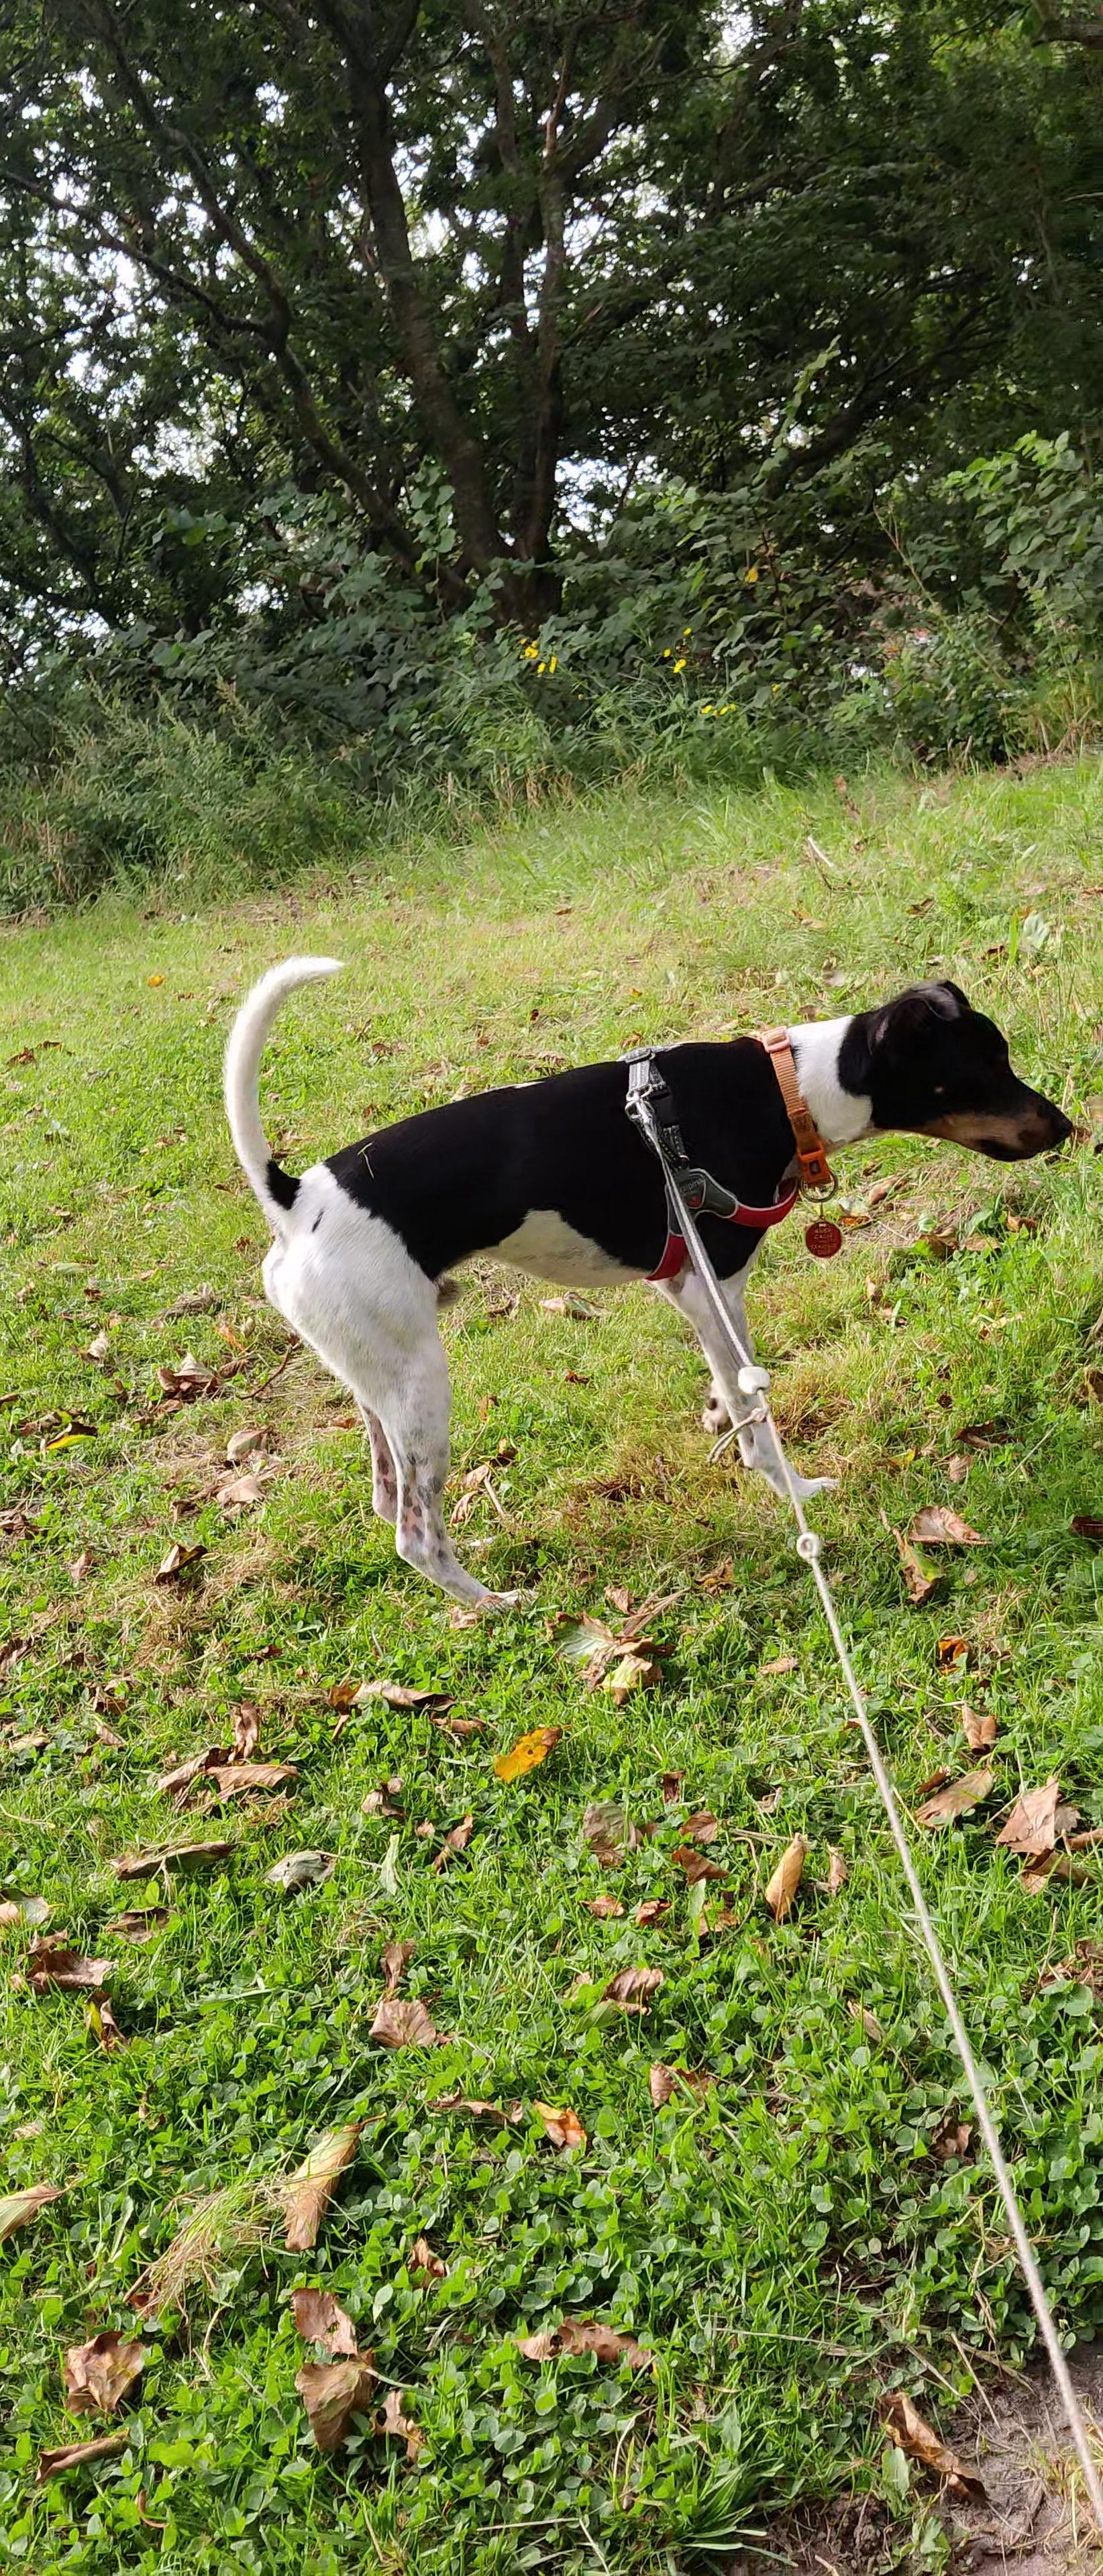Dog: (204, 950, 1080, 1623)
